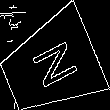N_SW: (22, 37, 79, 94)
